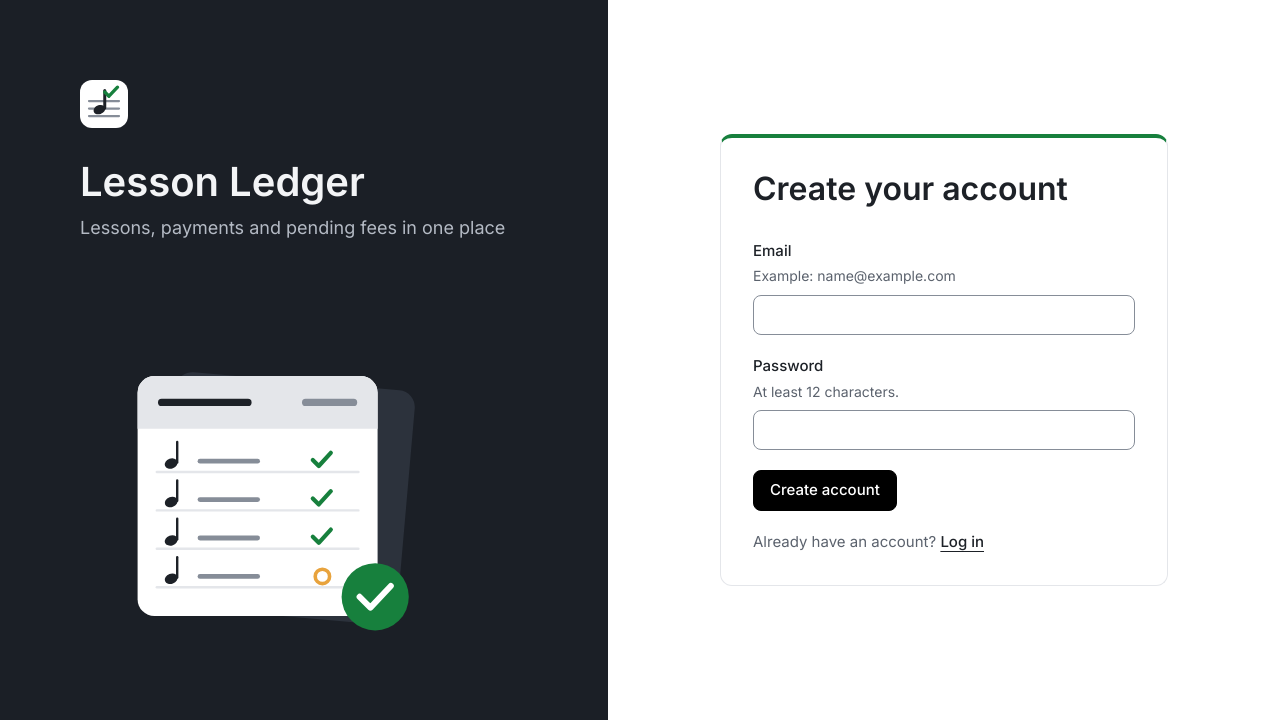
it: AC-1 sign-up page › focuses the first invalid field when both are invalid
Check: the heading "Create your account" is shown, box x1=753 y1=168 x2=1068 y2=208
What coordinates should you click on to do the following:
click the button "Create account"
I would click on:
 (825, 491)
Its box is x1=753 y1=470 x2=897 y2=511.
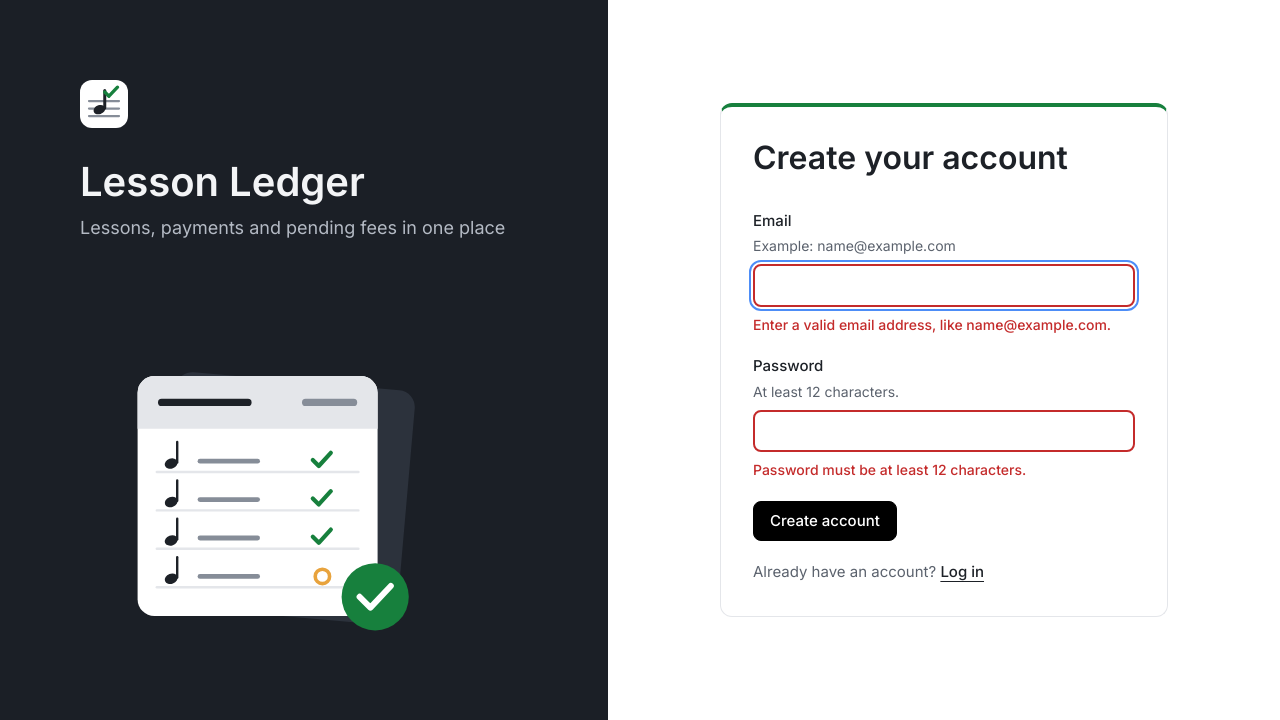
Check: the password field labelled "Password" is marked as invalid, box x1=753 y1=410 x2=1135 y2=452
